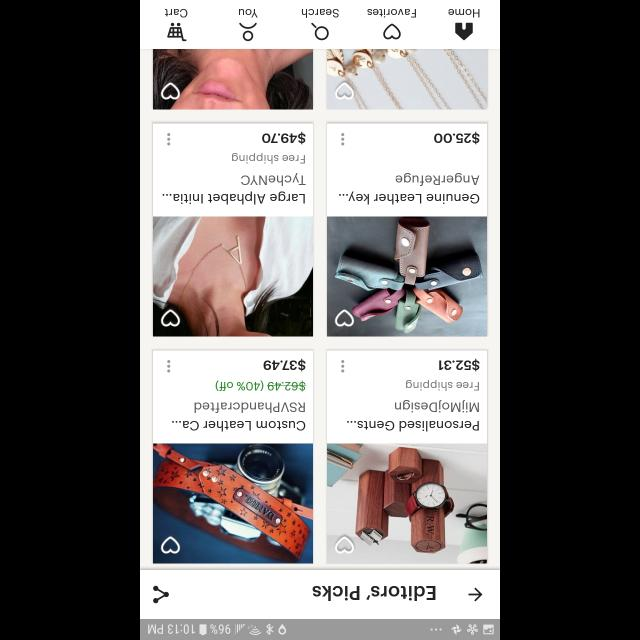icon: (160, 536, 180, 554), (160, 82, 180, 100), (334, 82, 354, 100), (239, 22, 257, 42), (168, 22, 186, 42), (455, 23, 473, 41), (311, 22, 329, 40), (334, 536, 354, 552), (334, 310, 354, 326), (160, 310, 180, 326), (153, 585, 169, 603), (383, 24, 401, 40), (468, 587, 482, 601), (340, 132, 344, 146), (340, 360, 344, 372), (166, 360, 170, 372), (168, 133, 170, 145)
image: (152, 443, 312, 563), (326, 216, 486, 336), (153, 216, 313, 336), (326, 443, 486, 562), (153, 49, 313, 109), (326, 49, 486, 109)
text: (162, 191, 306, 205), (338, 191, 478, 205), (312, 586, 436, 600), (171, 421, 305, 432), (347, 421, 479, 432), (194, 402, 306, 413), (395, 173, 479, 187), (214, 381, 306, 392), (395, 400, 479, 412), (232, 152, 304, 164), (240, 172, 306, 185), (406, 380, 478, 390), (438, 358, 479, 372), (434, 132, 478, 144), (262, 132, 306, 144), (263, 358, 305, 370), (366, 8, 416, 18), (302, 9, 338, 19), (448, 10, 479, 18), (165, 8, 188, 18), (238, 10, 258, 18)
uppertaskbar: (140, 618, 500, 640)
